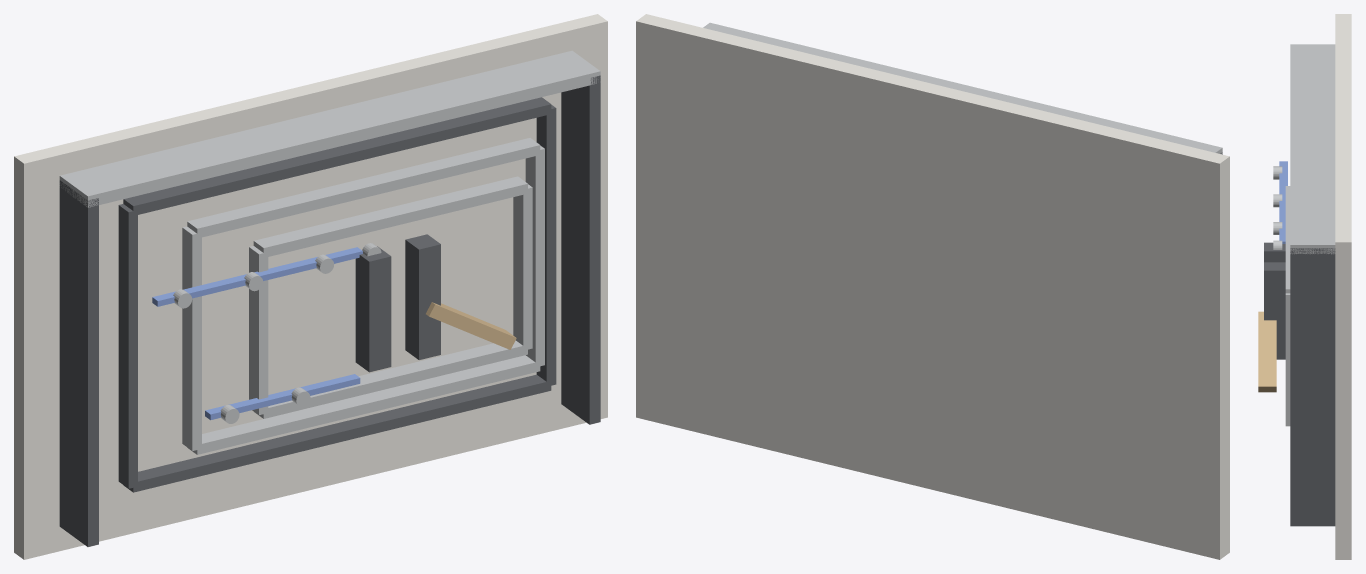
Rendered from onlev-mechanism.glb.
3 views of the same model, side by side, from view 1: azimuth 30°, elevation 25°; view 2: azimuth 150°, elevation 25°; view 3: azimuth 270°, elevation 25° (orthographic). The views are drawn at different scales.
Visible parts, largest first — view 1: mineral_backplane, ceiling_cove, left_return, right_return, frame_0_top, frame_0_bottom, frame_1_top, frame_1_bottom, frame_0_left, frame_2_top, frame_2_bottom, mark_left (+10 smaller); view 2: mineral_backplane, ceiling_cove; view 3: right_return, ceiling_cove, mineral_backplane, mark_right, mark_v_beam, frame_2_right, frame_2_top, signal_rail_top, world, mark_left.
Boxes of the visible parts, bbox=[...] form: mineral_backplane: bbox=[14, 14, 607, 559]; ceiling_cove: bbox=[59, 50, 600, 207]; left_return: bbox=[59, 180, 98, 546]; right_return: bbox=[561, 75, 600, 424]; frame_0_top: bbox=[123, 97, 551, 215]; frame_0_bottom: bbox=[123, 374, 551, 492]; frame_1_top: bbox=[187, 138, 540, 238]; frame_1_bottom: bbox=[187, 355, 540, 454]; frame_0_left: bbox=[118, 204, 137, 488]; frame_2_top: bbox=[253, 176, 527, 257]; frame_2_bottom: bbox=[254, 340, 527, 418]; mark_left: bbox=[355, 246, 391, 372]; mineral_backplane: bbox=[636, 14, 1229, 559]; ceiling_cove: bbox=[703, 22, 1222, 154]; right_return: bbox=[1290, 248, 1335, 526]; ceiling_cove: bbox=[1290, 44, 1335, 254]; mineral_backplane: bbox=[1335, 14, 1351, 559]; mark_right: bbox=[1264, 262, 1285, 359]; mark_v_beam: bbox=[1258, 311, 1276, 392]; frame_2_right: bbox=[1285, 293, 1290, 424]; frame_2_top: bbox=[1285, 186, 1290, 293]; signal_rail_top: bbox=[1279, 161, 1287, 243]; world: bbox=[1273, 166, 1282, 249]; mark_left: bbox=[1264, 242, 1285, 262].
Size of the model in its own units: 7.4 by 4.8 by 1.28.
